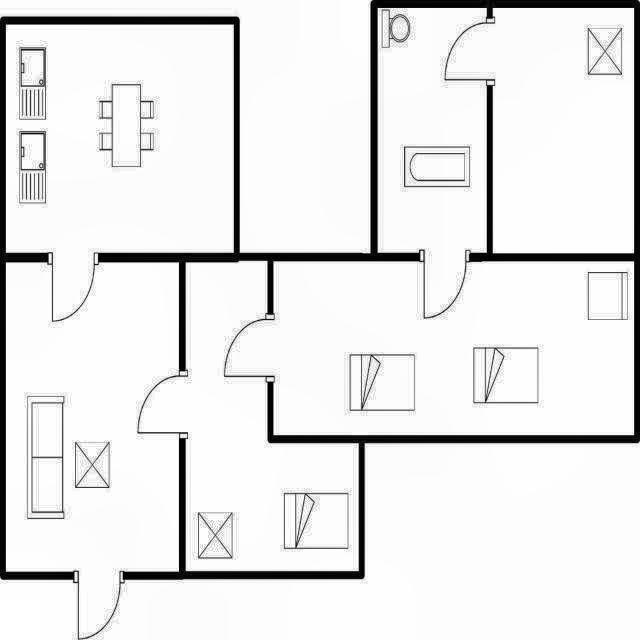room: (273, 261, 634, 435), (186, 260, 359, 571), (6, 262, 179, 572), (6, 25, 234, 253), (493, 8, 634, 253), (378, 8, 487, 253)
